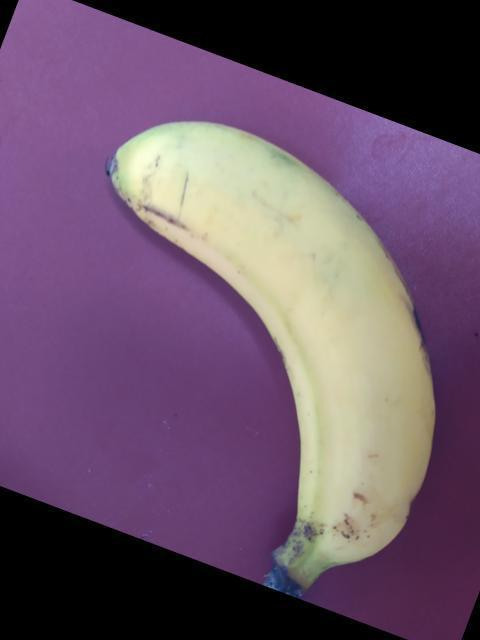freshripe: (100, 105, 444, 581)
